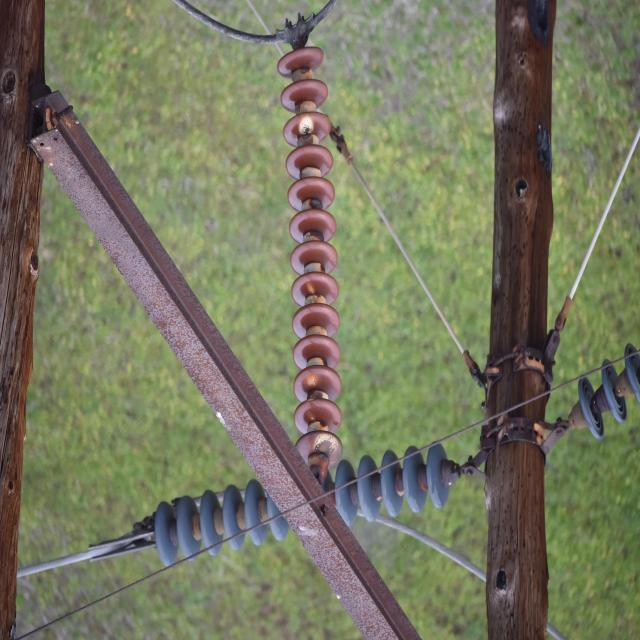insulator: (154, 441, 450, 567), (278, 44, 340, 469), (576, 342, 638, 442)
